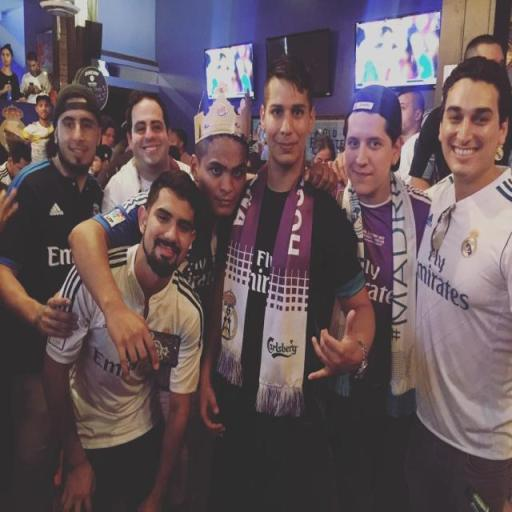Adidas: (50, 201, 64, 217)
Emirates: (414, 250, 471, 313)
